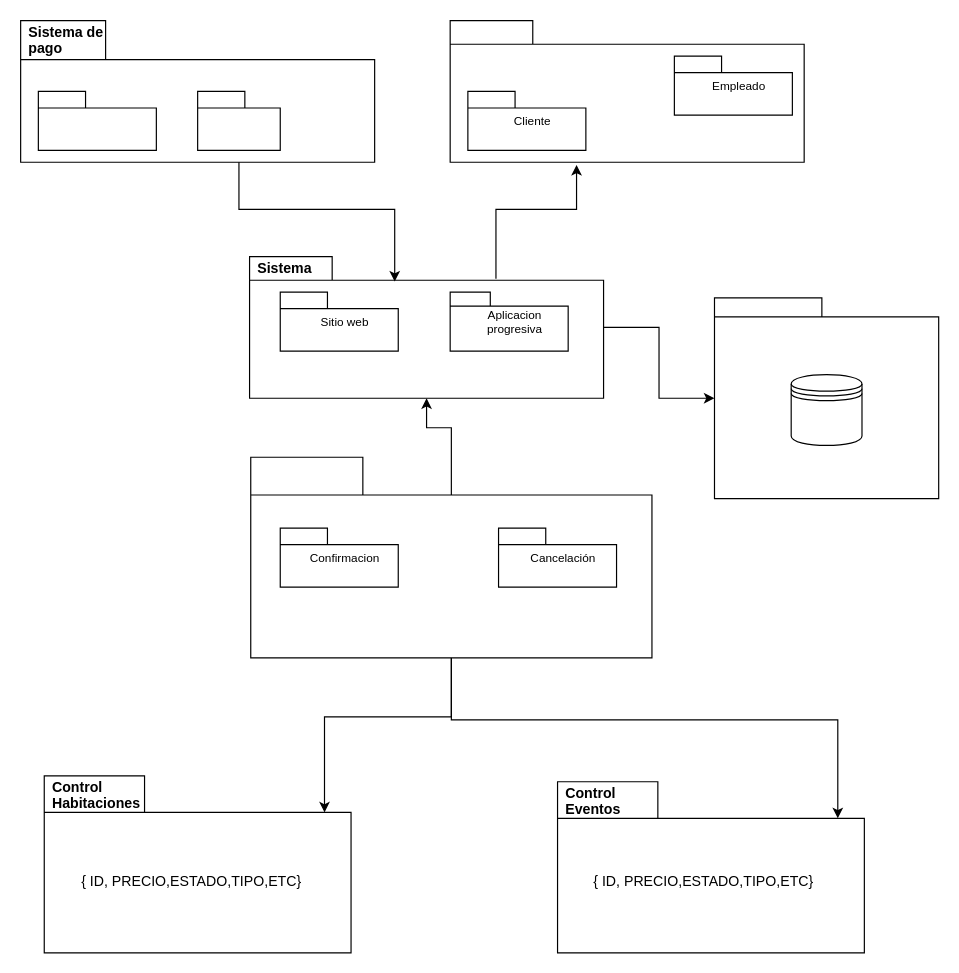
This 959x973 diagram has some shape labels left out. Here are the shapes that lost their labels. From the top down, the box of each, then its label:
(449, 19, 804, 162): Usuario
(37, 90, 156, 150): Debito / Credito
(196, 90, 280, 150): Efectivo
(713, 297, 939, 499): Base de datos
(250, 456, 652, 658): Sistema Reservacion
